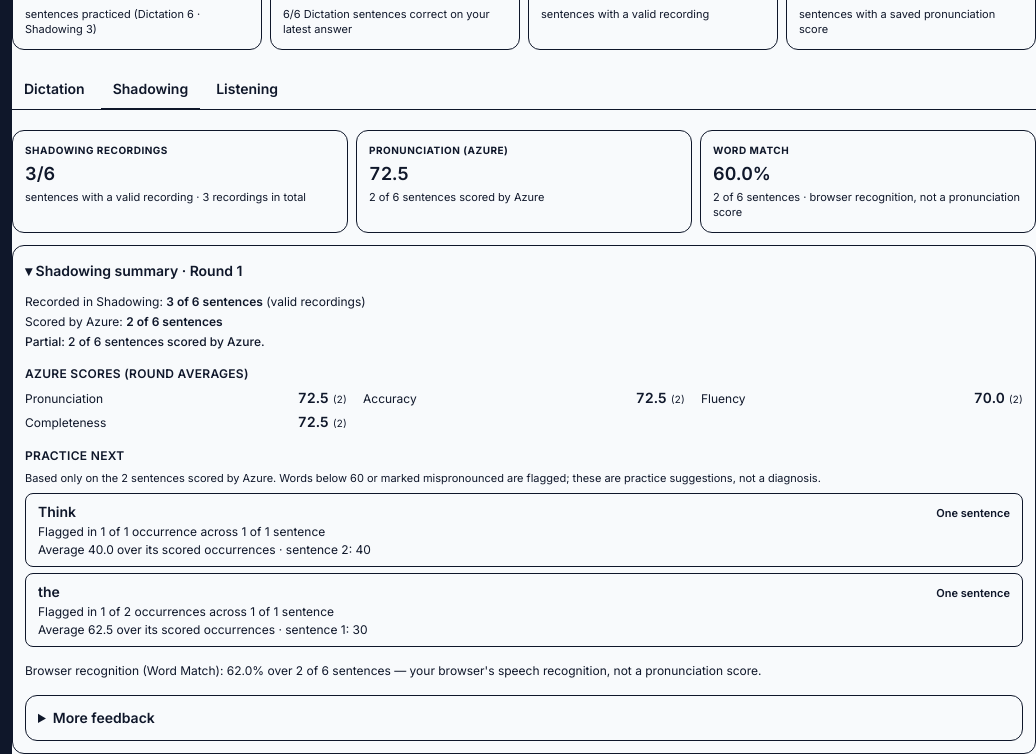
sentences: read-only preview vs. practice navigation › /results and History: a read-only preview of the saved feedback — no navigation, no writes
The image size is (1036, 754).
(page scrolled)
Click the heading "More feedback".
click(104, 717)  # box [53, 709, 155, 726]
(page scrolled)
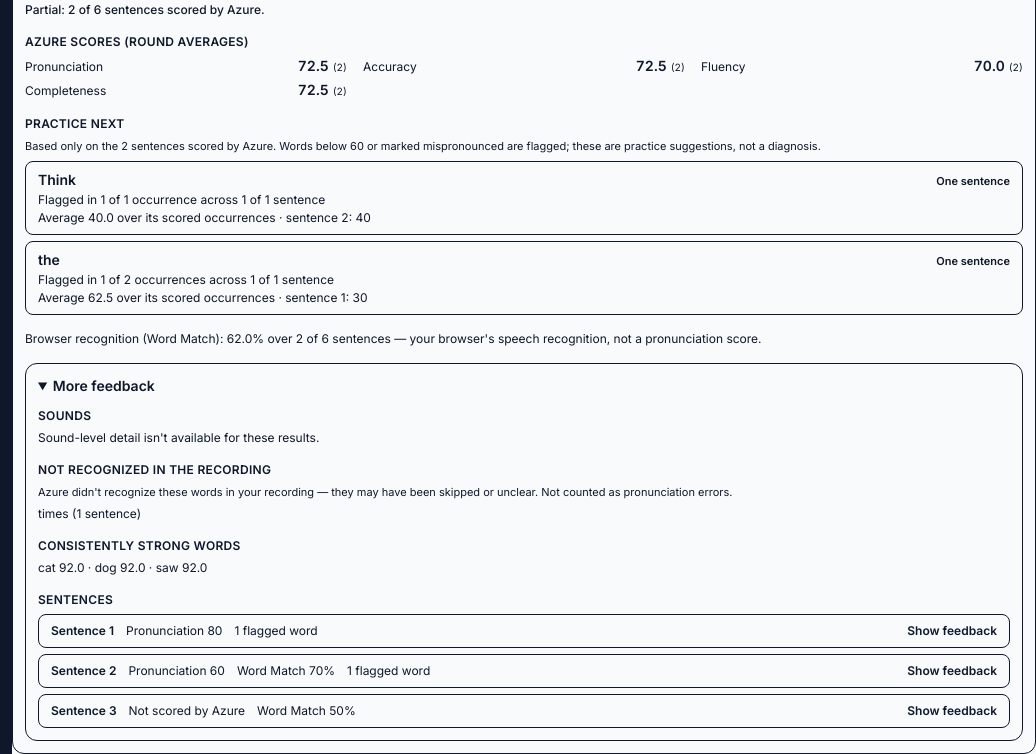
Click the button "Show feedback" in the row of "Pronunciation 80".
click(952, 631)  # box [907, 623, 997, 639]
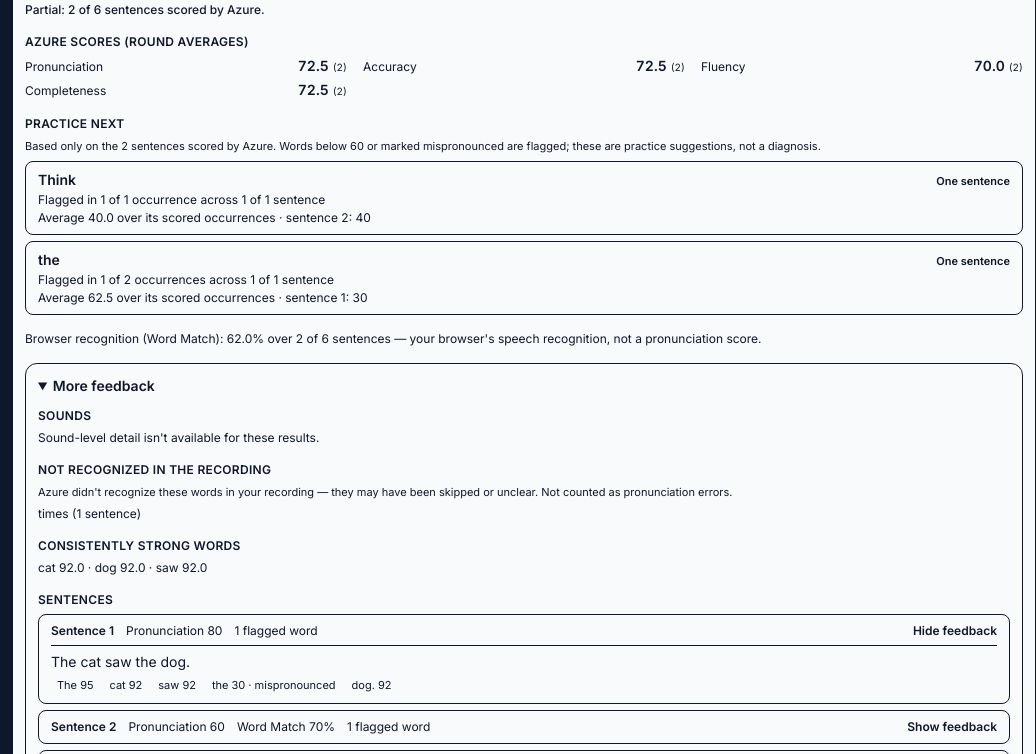
Expected: the element with test id "ss-sentence-preview-0" shows "The cat saw the dog.", [51, 653, 190, 670]
Expected: the element with test id "ss-sentence-preview-0" shows "the 30 · mispronounced", [51, 645, 997, 695]
